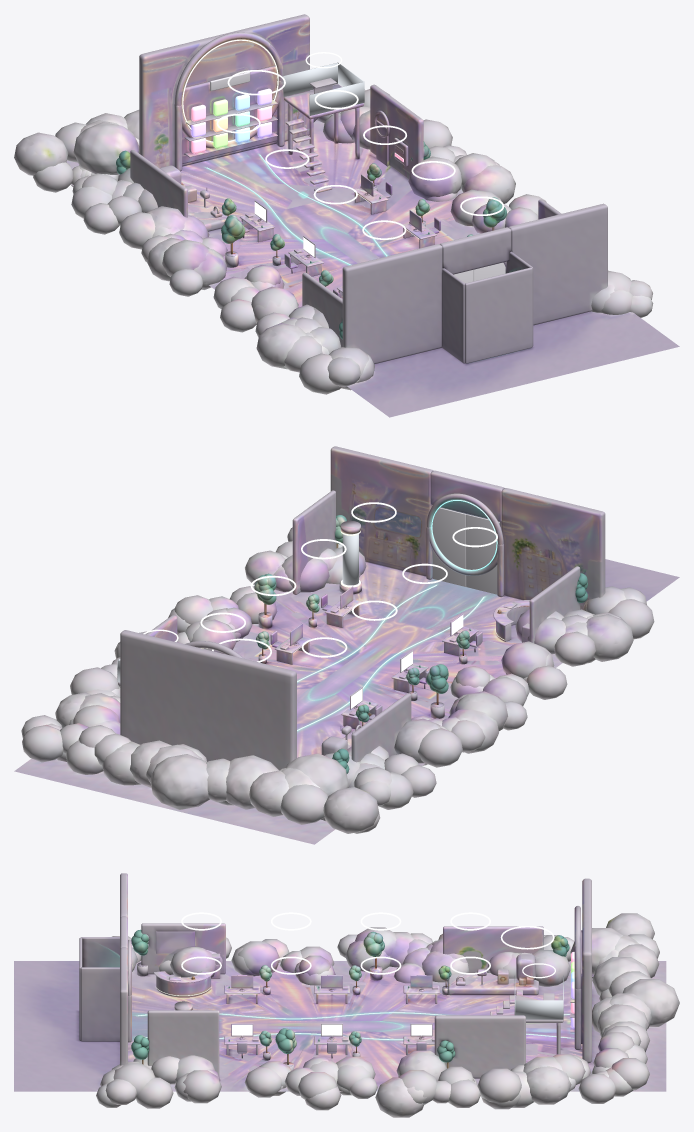
The model's file is hall.glb.
3 views of the same model, one above another, from view 1: azimuth 30°, elevation 25°; view 2: azimuth 150°, elevation 25°; view 3: azimuth 270°, elevation 25° (orthographic). The views are drawn at different scales.
Parts seen in each view (by area): view 1: room, loft_glass, loft_glass.002; view 2: room, door_r, door_l, meter_glass; view 3: room, loft_glass.001.
Part boxes in pixels (x1,y1,x2,y2): room: (14, 14, 679, 417); loft_glass: (309, 82, 364, 115); loft_glass.002: (283, 62, 337, 96); room: (14, 446, 679, 844); door_r: (433, 507, 466, 586); door_l: (466, 514, 499, 594); meter_glass: (342, 534, 358, 585); room: (14, 873, 679, 1117); loft_glass.001: (514, 1000, 563, 1019).
Size of the model in its own units: 24.31 by 8.86 by 40.84.
13 materials, 1 textured.
